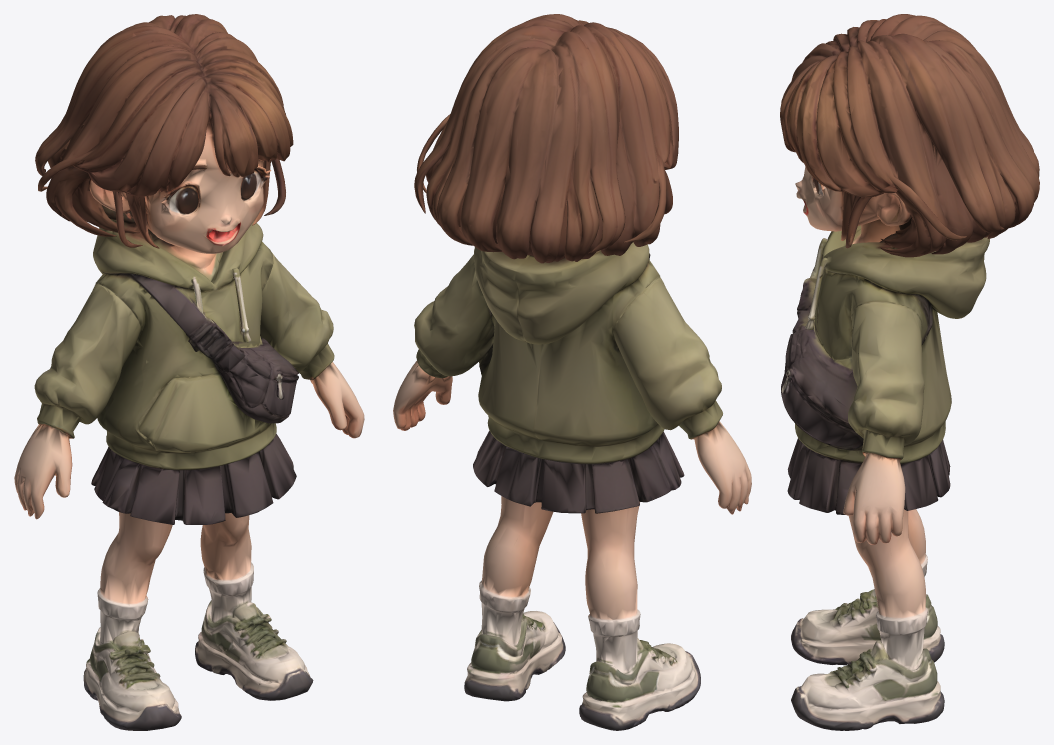
The model's file is avatar-green.glb.
3 views of the same model, side by side, from view 1: azimuth 30°, elevation 25°; view 2: azimuth 150°, elevation 25°; view 3: azimuth 270°, elevation 25° (orthographic). The views are drawn at different scales.
Visible parts, largest first — view 1: node_0; view 2: node_0; view 3: node_0.
Part boxes in pixels (bbox=[...]): node_0: bbox=[14, 14, 364, 730]; node_0: bbox=[393, 14, 751, 730]; node_0: bbox=[780, 14, 1039, 730].
Bounding box in the file's own units: 0.6043 × 1.13 × 0.4025.
1 material, 1 textured.
